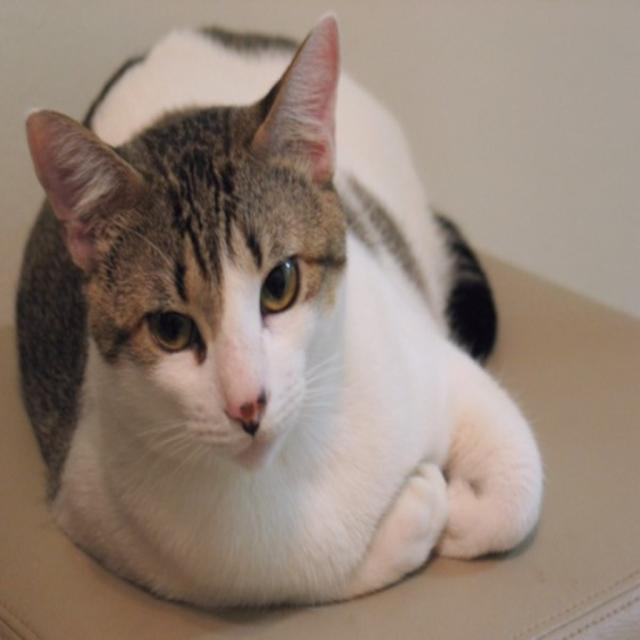Cat: (14, 9, 544, 614)
